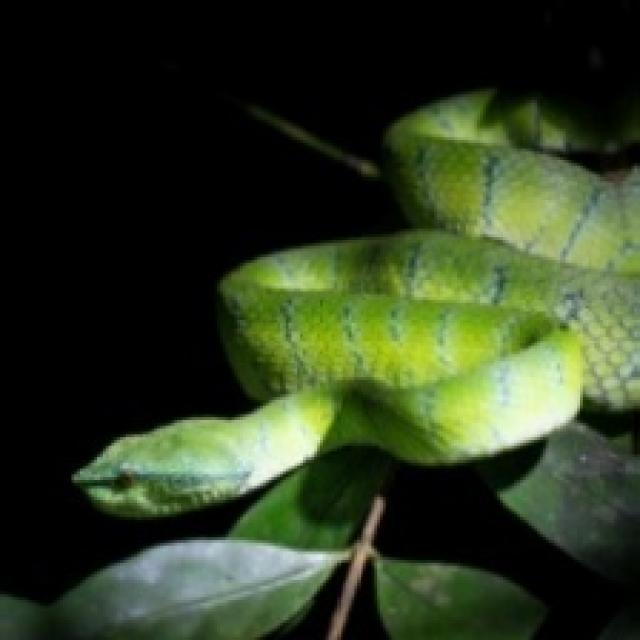north ph temple pitviper: (74, 91, 637, 517)
